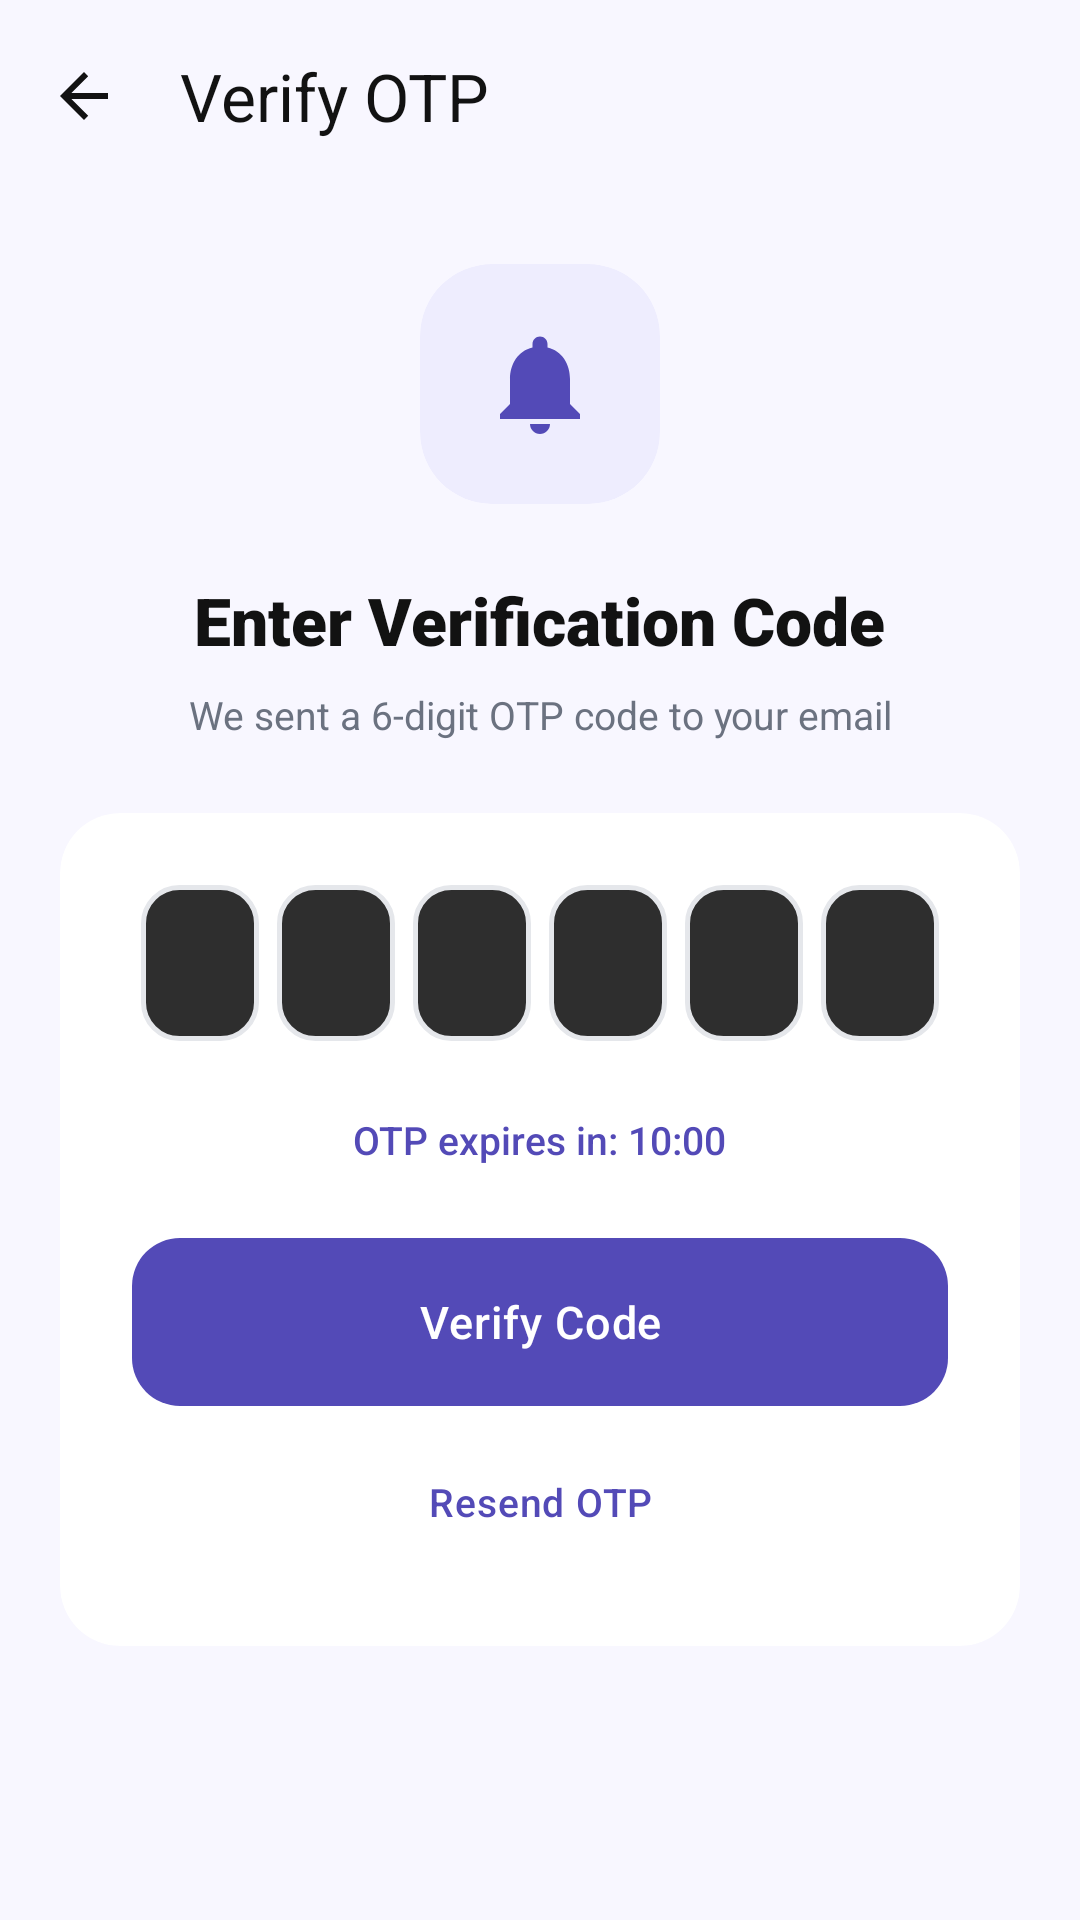

Icons on this 1080x1920 Android screen, each with its box as bbox(x1, y1, x2, y2):
notifications: bbox(500, 336, 580, 434)
